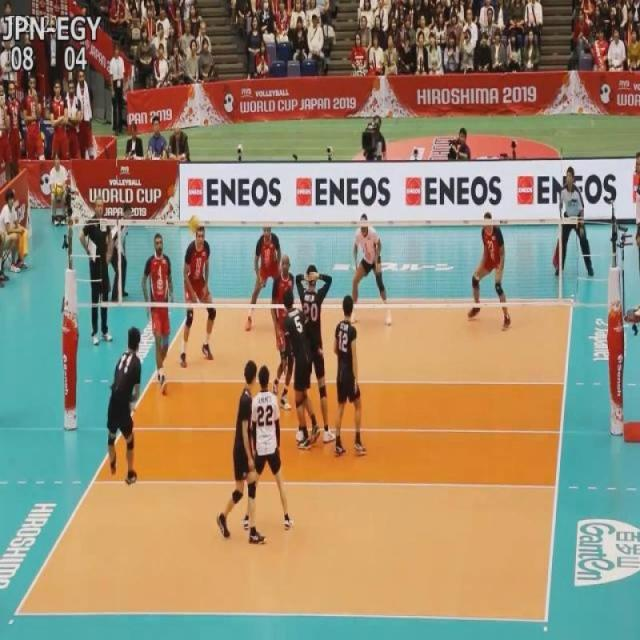volleyball: (188, 212, 200, 233), (54, 181, 64, 196)
